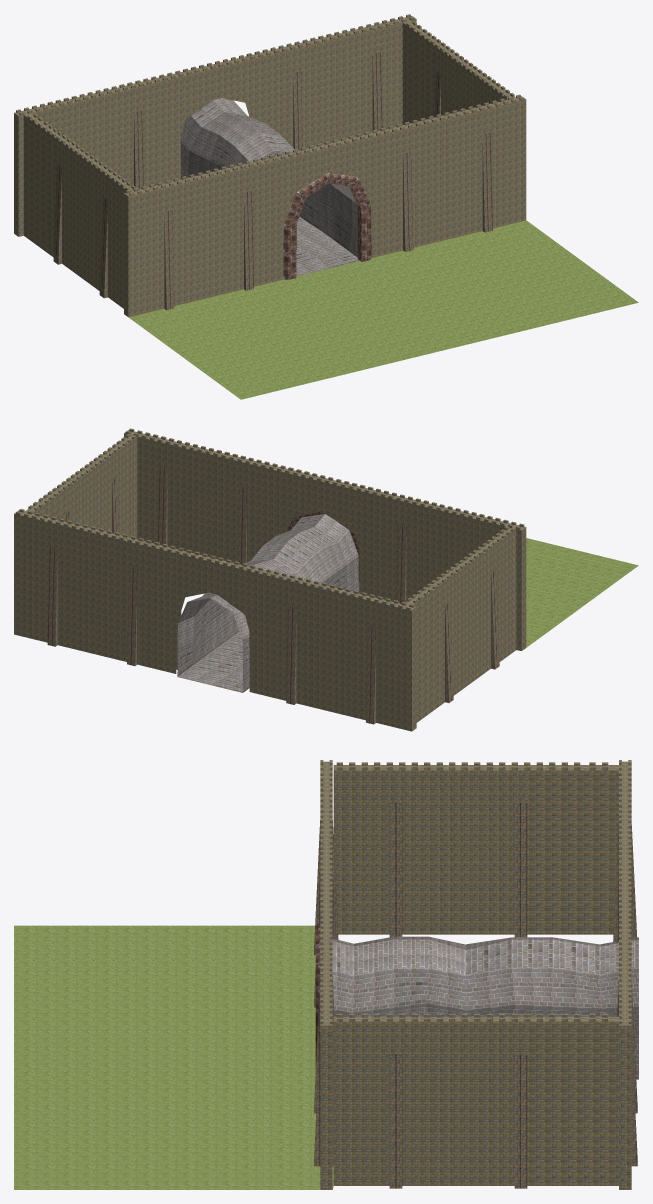
The model's file is map50GBDN.fbx.
3 views of the same model, one above another, from view 1: azimuth 30°, elevation 25°; view 2: azimuth 150°, elevation 25°; view 3: azimuth 270°, elevation 25° (orthographic). The views are drawn at different scales.
Parts seen in each view (by area): view 1: map50GBDN_Layer2, map50GBDN_Layer1, map50GBDN_Layer4, map50GBDN_Layer3, map50GBDN_Layer6, map50GBDN_Layer5; view 2: map50GBDN_Layer2, map50GBDN_Layer4, map50GBDN_Layer3, map50GBDN_Layer1, map50GBDN_Layer6; view 3: map50GBDN_Layer2, map50GBDN_Layer1, map50GBDN_Layer4, map50GBDN_Layer3, map50GBDN_Layer6, map50GBDN_Layer5.
Boxes of the visible parts, x1,y1,x2,y2 form: map50GBDN_Layer2: [14, 16, 526, 317]; map50GBDN_Layer1: [129, 220, 638, 399]; map50GBDN_Layer4: [181, 98, 359, 276]; map50GBDN_Layer3: [53, 52, 492, 310]; map50GBDN_Layer6: [16, 14, 524, 195]; map50GBDN_Layer5: [283, 173, 371, 279]; map50GBDN_Layer2: [14, 430, 526, 731]; map50GBDN_Layer4: [177, 514, 359, 692]; map50GBDN_Layer3: [47, 466, 499, 724]; map50GBDN_Layer1: [516, 538, 638, 650]; map50GBDN_Layer6: [16, 428, 524, 610]; map50GBDN_Layer2: [320, 761, 631, 1189]; map50GBDN_Layer1: [14, 925, 333, 1189]; map50GBDN_Layer4: [332, 936, 638, 1079]; map50GBDN_Layer3: [314, 803, 637, 1188]; map50GBDN_Layer6: [320, 760, 631, 1024]; map50GBDN_Layer5: [315, 923, 320, 1069].
Bounding box in the file's own units: 1 × 0.295 × 1.
